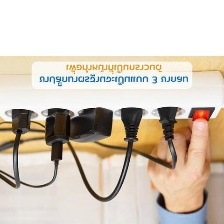three_eye_plug: (0, 67, 224, 126)
